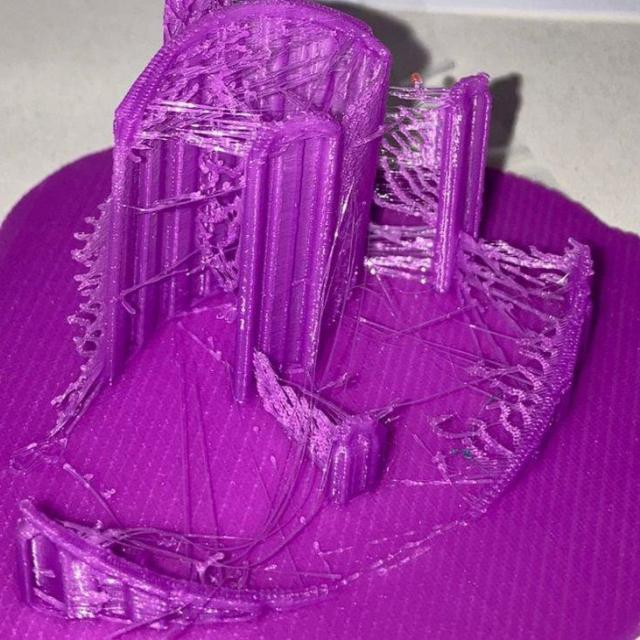stringing: (359, 82, 454, 284), (158, 98, 261, 150), (470, 240, 572, 284), (158, 533, 266, 572), (509, 330, 561, 394), (488, 396, 533, 440)
